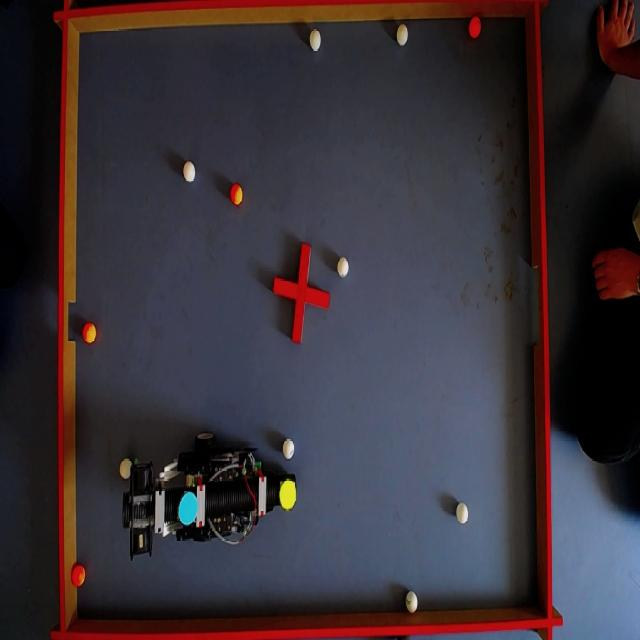orange: (466, 18, 481, 41), (232, 186, 246, 207), (83, 325, 97, 345), (72, 568, 84, 588)
robot: (115, 441, 302, 556)
robot-front: (278, 475, 299, 511)
robot-rear: (177, 491, 200, 525)
white: (394, 23, 410, 47), (404, 591, 419, 613), (308, 29, 322, 51), (184, 162, 197, 184), (458, 504, 471, 526), (283, 439, 297, 459), (337, 258, 350, 278), (120, 459, 132, 479)
